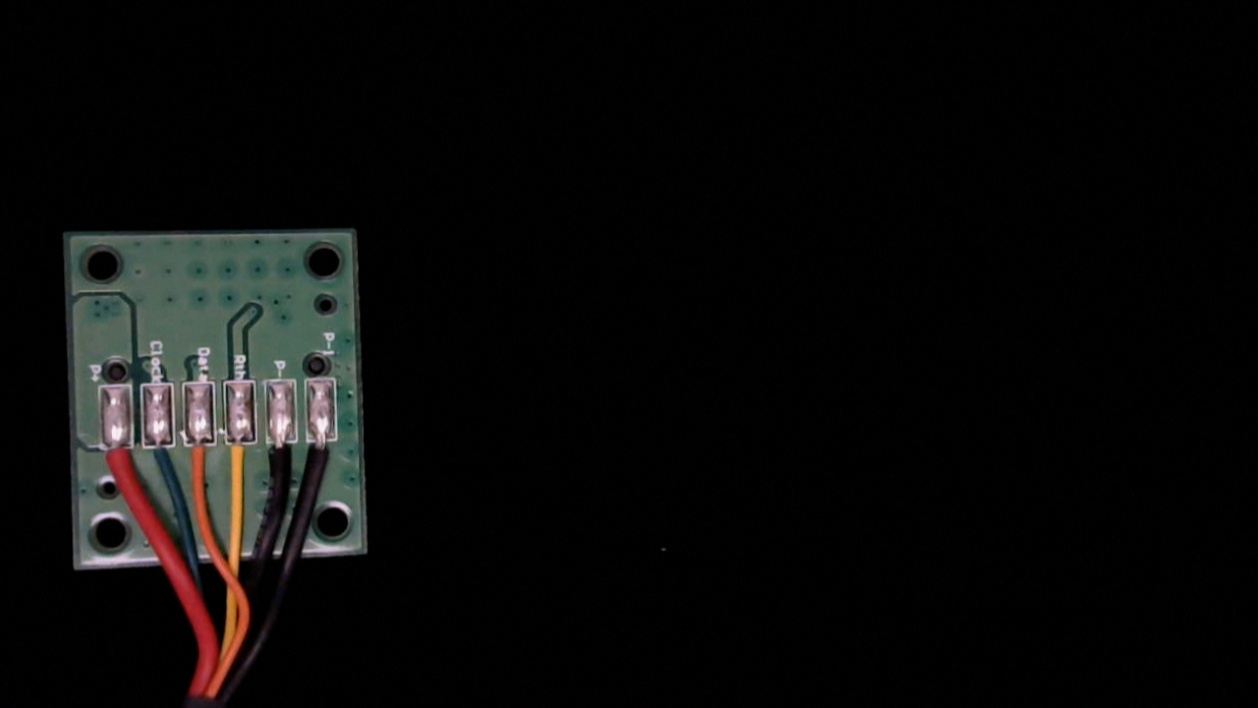Black: (266, 427, 298, 490)
Black1: (306, 426, 340, 492)
Green: (141, 430, 176, 487)
Orange: (183, 429, 214, 489)
Red: (99, 432, 135, 501)
Yellow: (225, 429, 260, 490)
